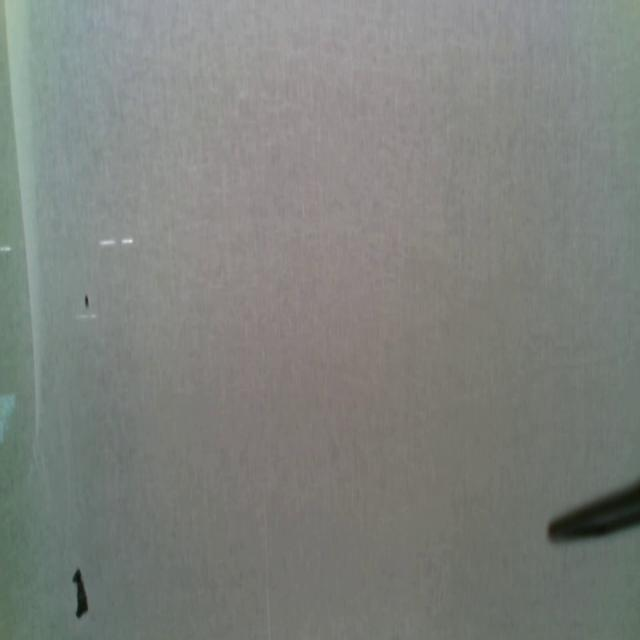crease: (3, 0, 41, 439)
hole: (73, 568, 89, 621), (83, 292, 92, 315)
